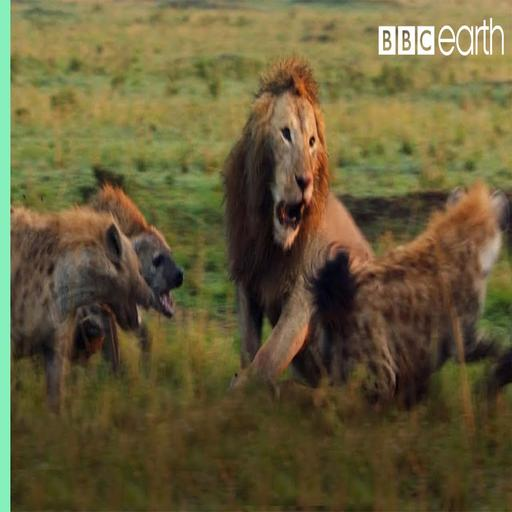Hyena: (309, 172, 512, 439), (0, 161, 189, 416), (0, 206, 160, 433)
Lion: (223, 53, 381, 405)
